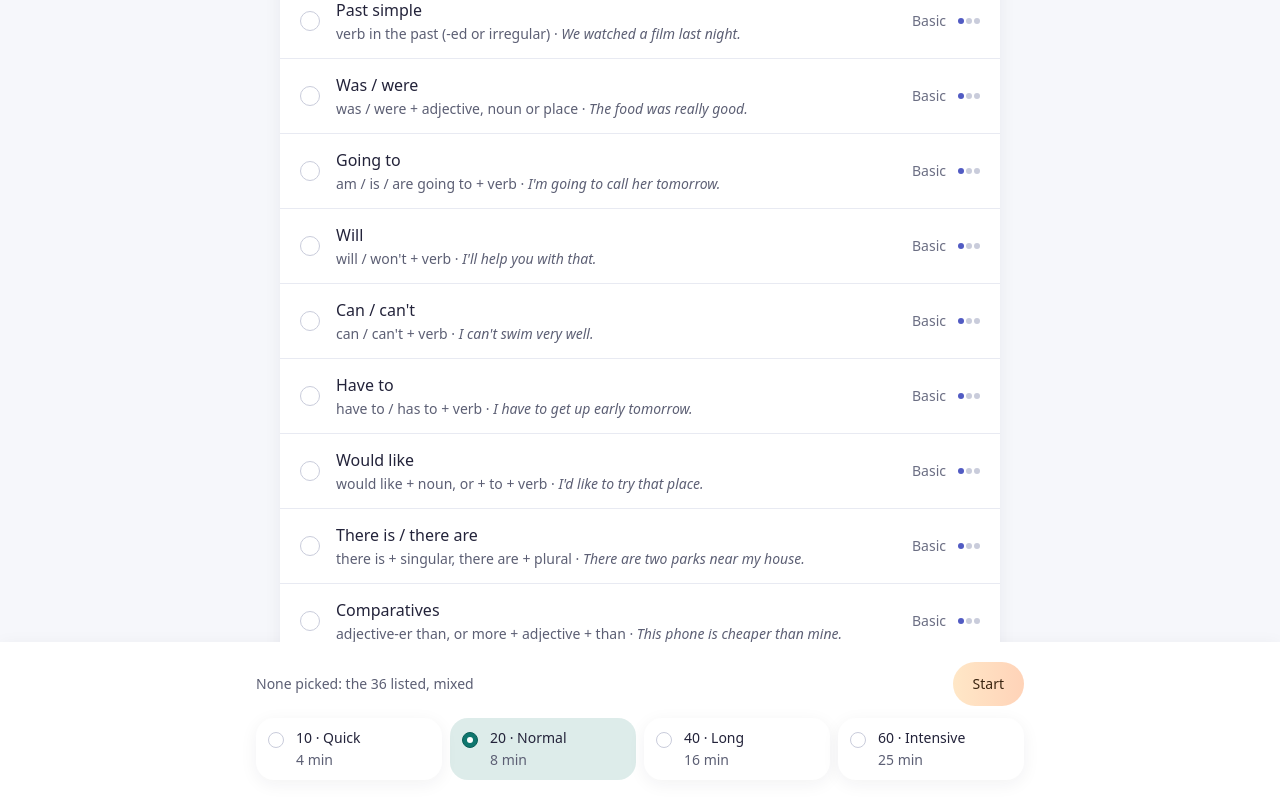
it: a session of structures › asks for a sentence with a structure and a word, and takes the window
The width and height of the screenshot is (1280, 800).
(page scrolled)
Click the button "Can / can't" at (376, 310), box top-left (280, 284), bottom-right (1000, 358)
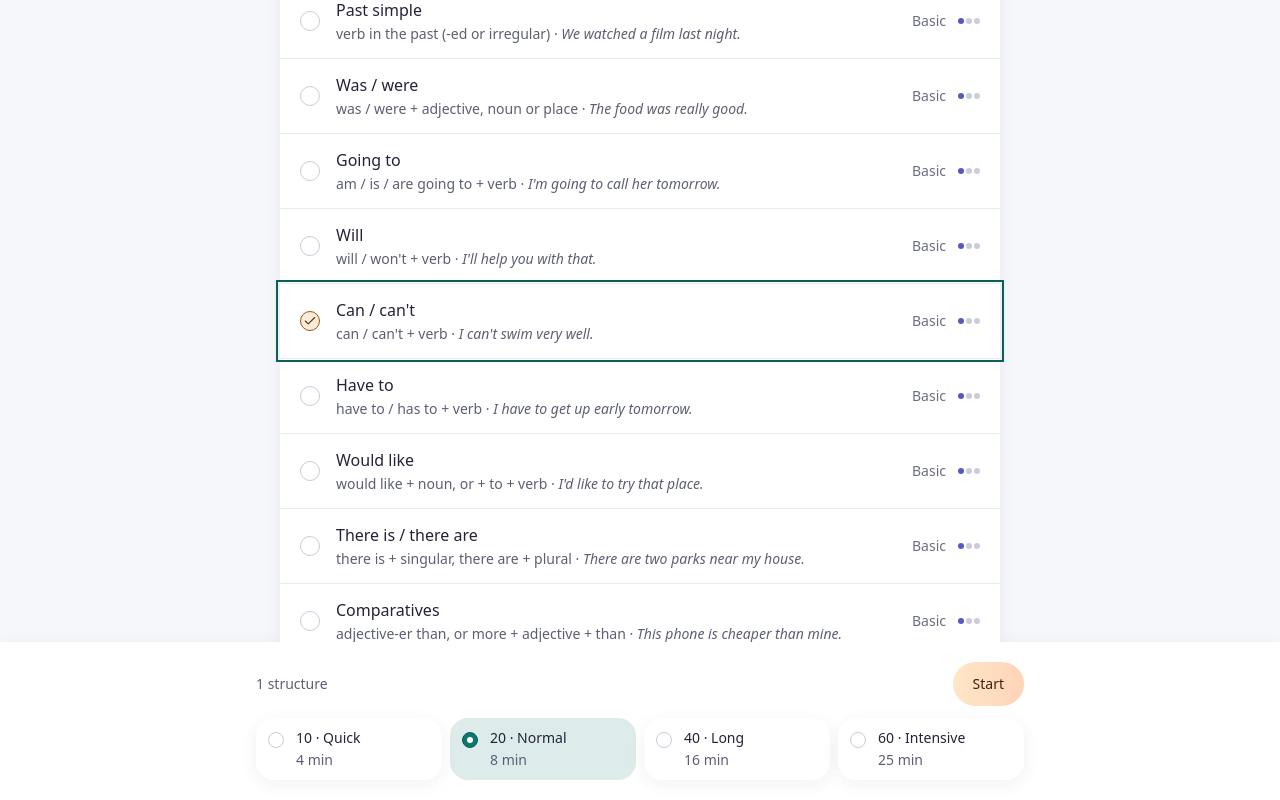
Click the radio button labelled "10 · Quick 4 min" at (349, 749), box top-left (256, 718), bottom-right (442, 780)
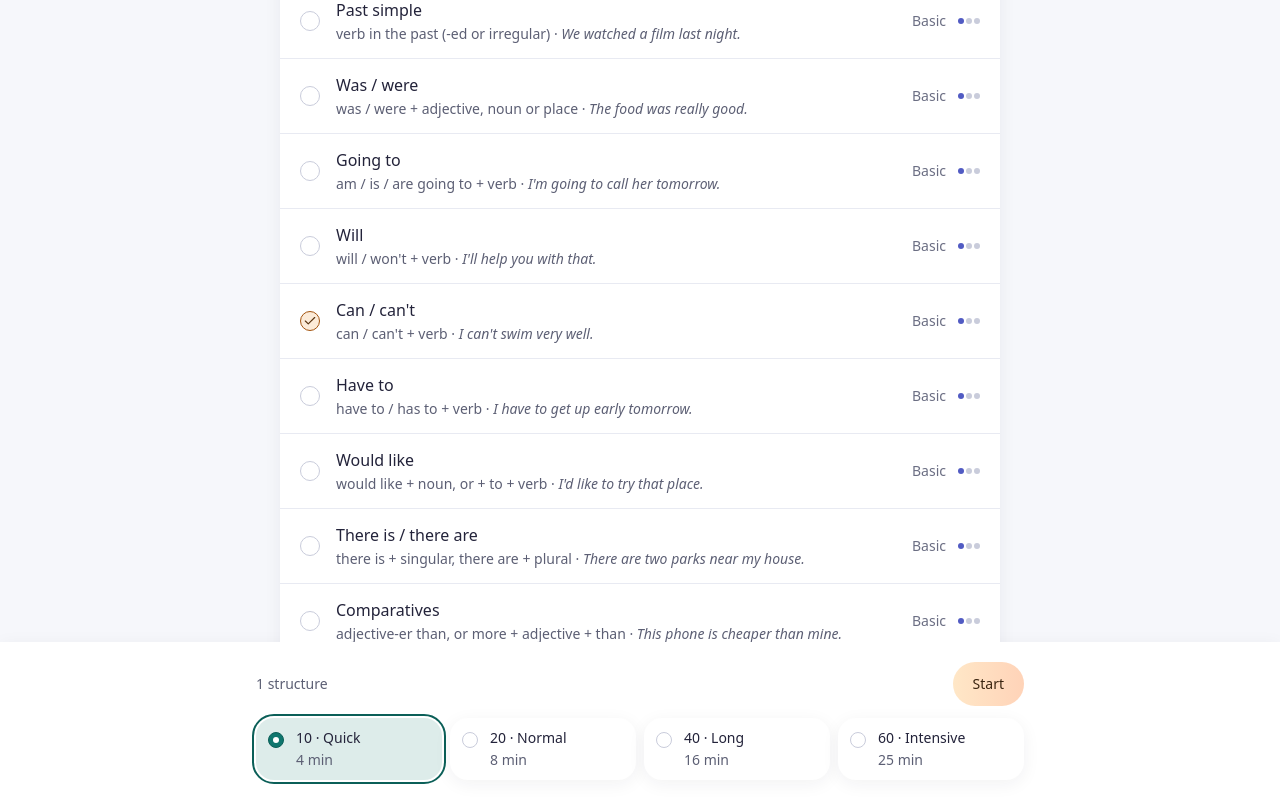
Click the button "Start" at (988, 684), box top-left (953, 662), bottom-right (1024, 706)
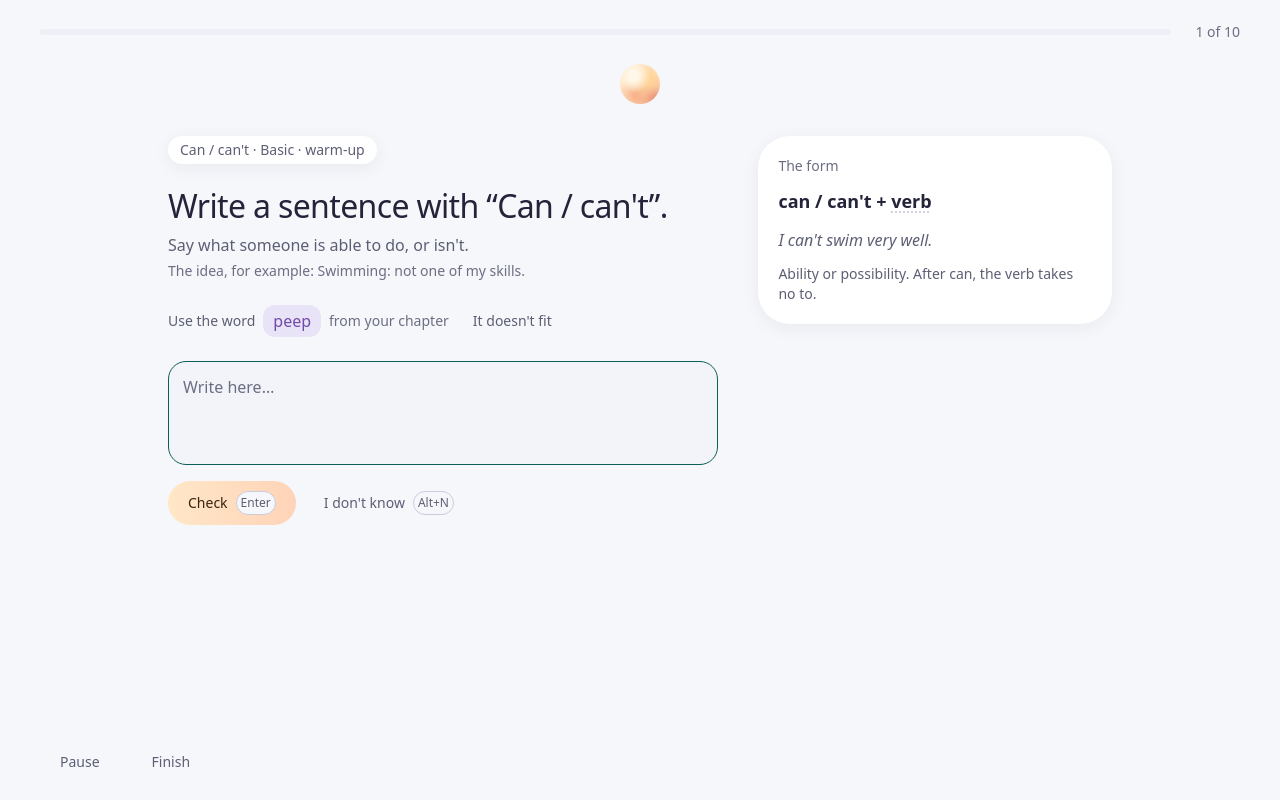
Check: the text box named "Your sentence, in English" is shown, box top-left (168, 361), bottom-right (718, 465)
Check: the heading "Write a sentence with “Can / can't”." is shown, box top-left (168, 188), bottom-right (718, 225)
Check: the button "peep" is shown, box top-left (263, 305), bottom-right (321, 337)
